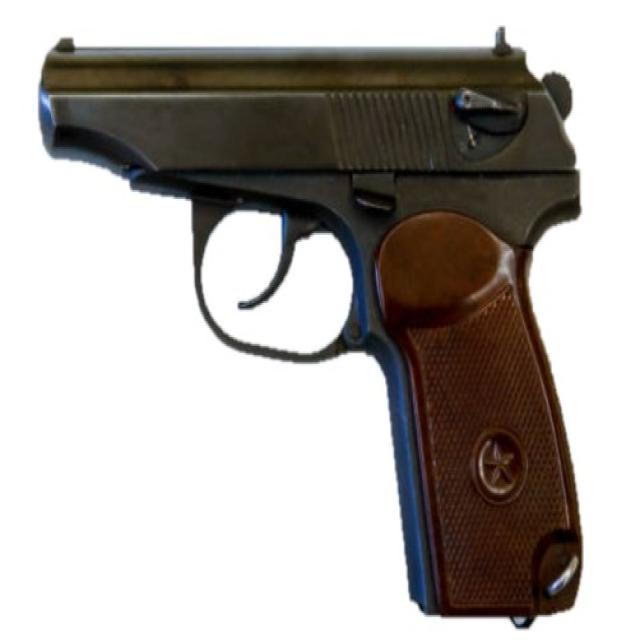pistol: (28, 25, 593, 634)
